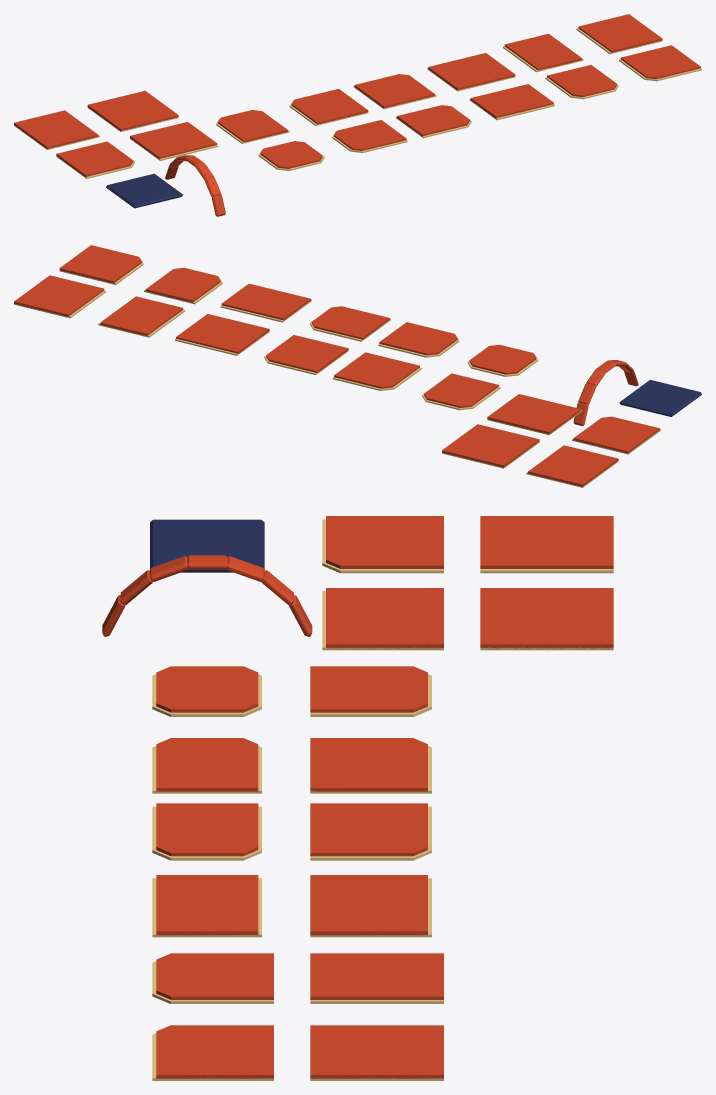
File: R4H_HullKit.fbx
3 renders of one model, top to bottom at view 1: azimuth 30°, elevation 25°; view 2: azimuth 150°, elevation 25°; view 3: azimuth 270°, elevation 25°, orthographic. The views are drawn at different scales.
Parts seen in each view (by area): view 1: plate_15, plate_07, plate_13, plate_11, plate_14, plate_05, plate_03, plate_06, plate_09, plate_12, plate_10, plate_01 (+6 smaller); view 2: plate_15, plate_11, plate_13, plate_07, plate_14, plate_09, plate_03, plate_10, plate_12, plate_05, plate_06, plate_01 (+6 smaller); view 3: plate_15, plate_14, plate_07, plate_11, plate_13, plate_10, plate_06, plate_03, plate_12, plate_09, plate_05, plate_02 (+6 smaller).
Part boxes in pixels (x1,y1,x2,y2): plate_15: (87,90,178,131); plate_07: (130,122,218,160); plate_13: (576,14,662,54); plate_11: (427,53,515,91); plate_14: (14,110,99,149); plate_05: (619,45,701,81); plate_03: (469,84,554,120); plate_06: (56,141,134,178); plate_09: (289,89,368,125); plate_12: (503,33,583,72); plate_10: (353,74,436,109); plate_01: (332,120,407,152); plate_15: (442,424,539,468); plate_11: (175,314,269,355); plate_13: (14,275,106,318); plate_07: (487,394,581,435); plate_14: (526,445,618,487); plate_09: (332,352,421,390); plate_03: (220,283,311,322); plate_10: (264,335,348,374); plate_12: (98,296,185,337); plate_05: (59,245,143,284); plate_06: (572,416,660,454); plate_01: (378,322,459,357); plate_15: (480,588,613,650); plate_14: (480,516,613,573); plate_07: (322,588,443,650); plate_11: (310,875,431,937); plate_13: (310,1025,443,1080); plate_10: (310,803,431,860); plate_06: (322,516,443,573); plate_03: (152,875,261,937); plate_12: (310,953,443,1003); plate_09: (310,738,431,793); plate_05: (152,1025,273,1080); plate_02: (152,803,261,860).
Size of the model in its own units: 5.45 by 0.3398 by 2.11.
